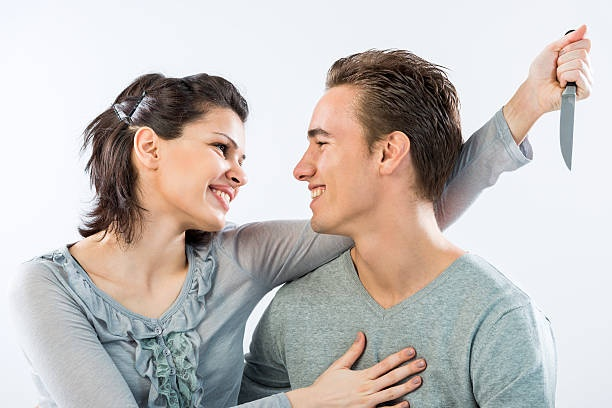knife: (556, 26, 593, 172)
person: (266, 48, 540, 408), (8, 73, 257, 408)
